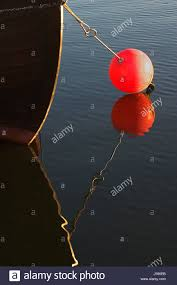buoy: (110, 48, 155, 94)
